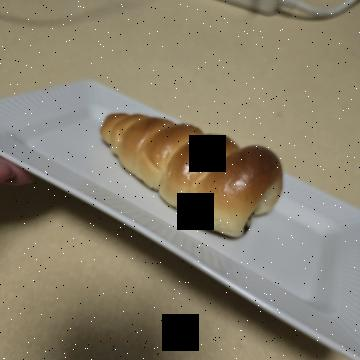cream horn: (96, 72, 249, 276)
